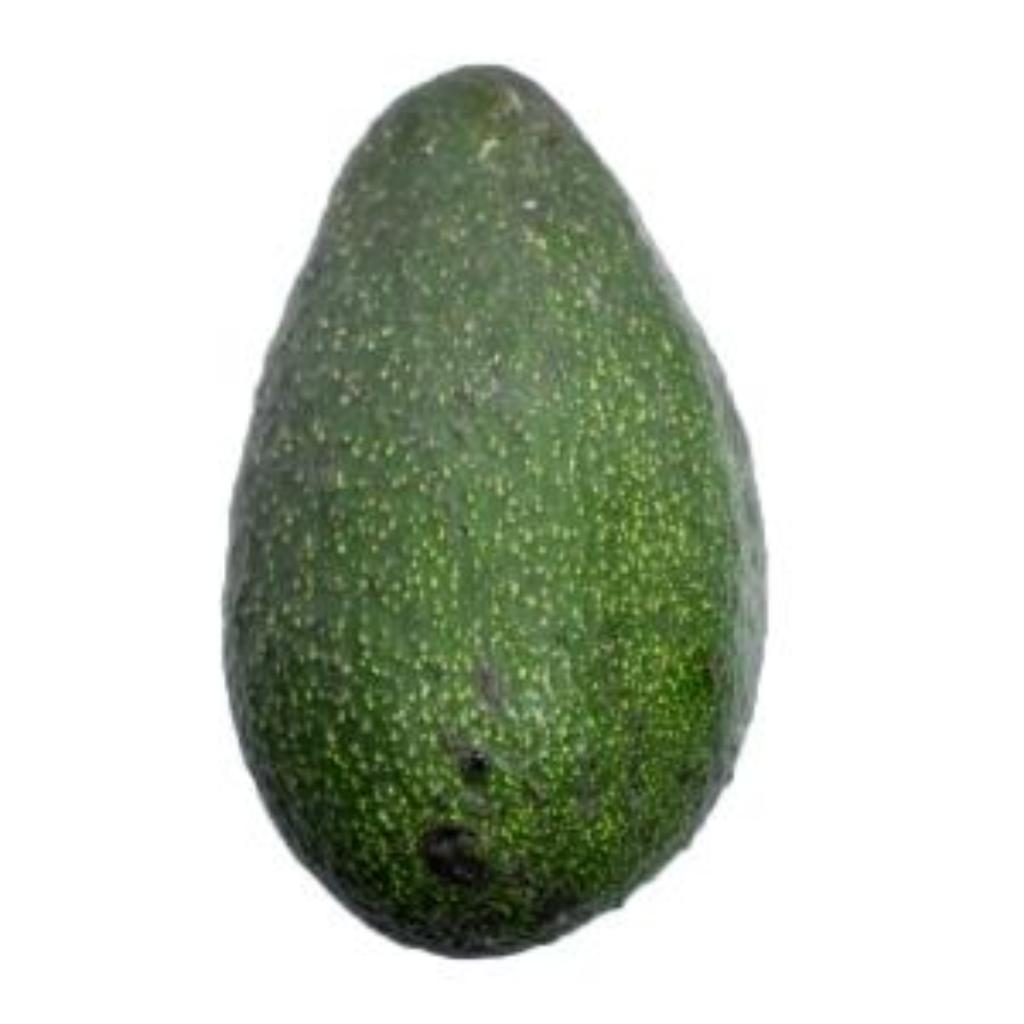cercospora: (218, 52, 778, 968)
